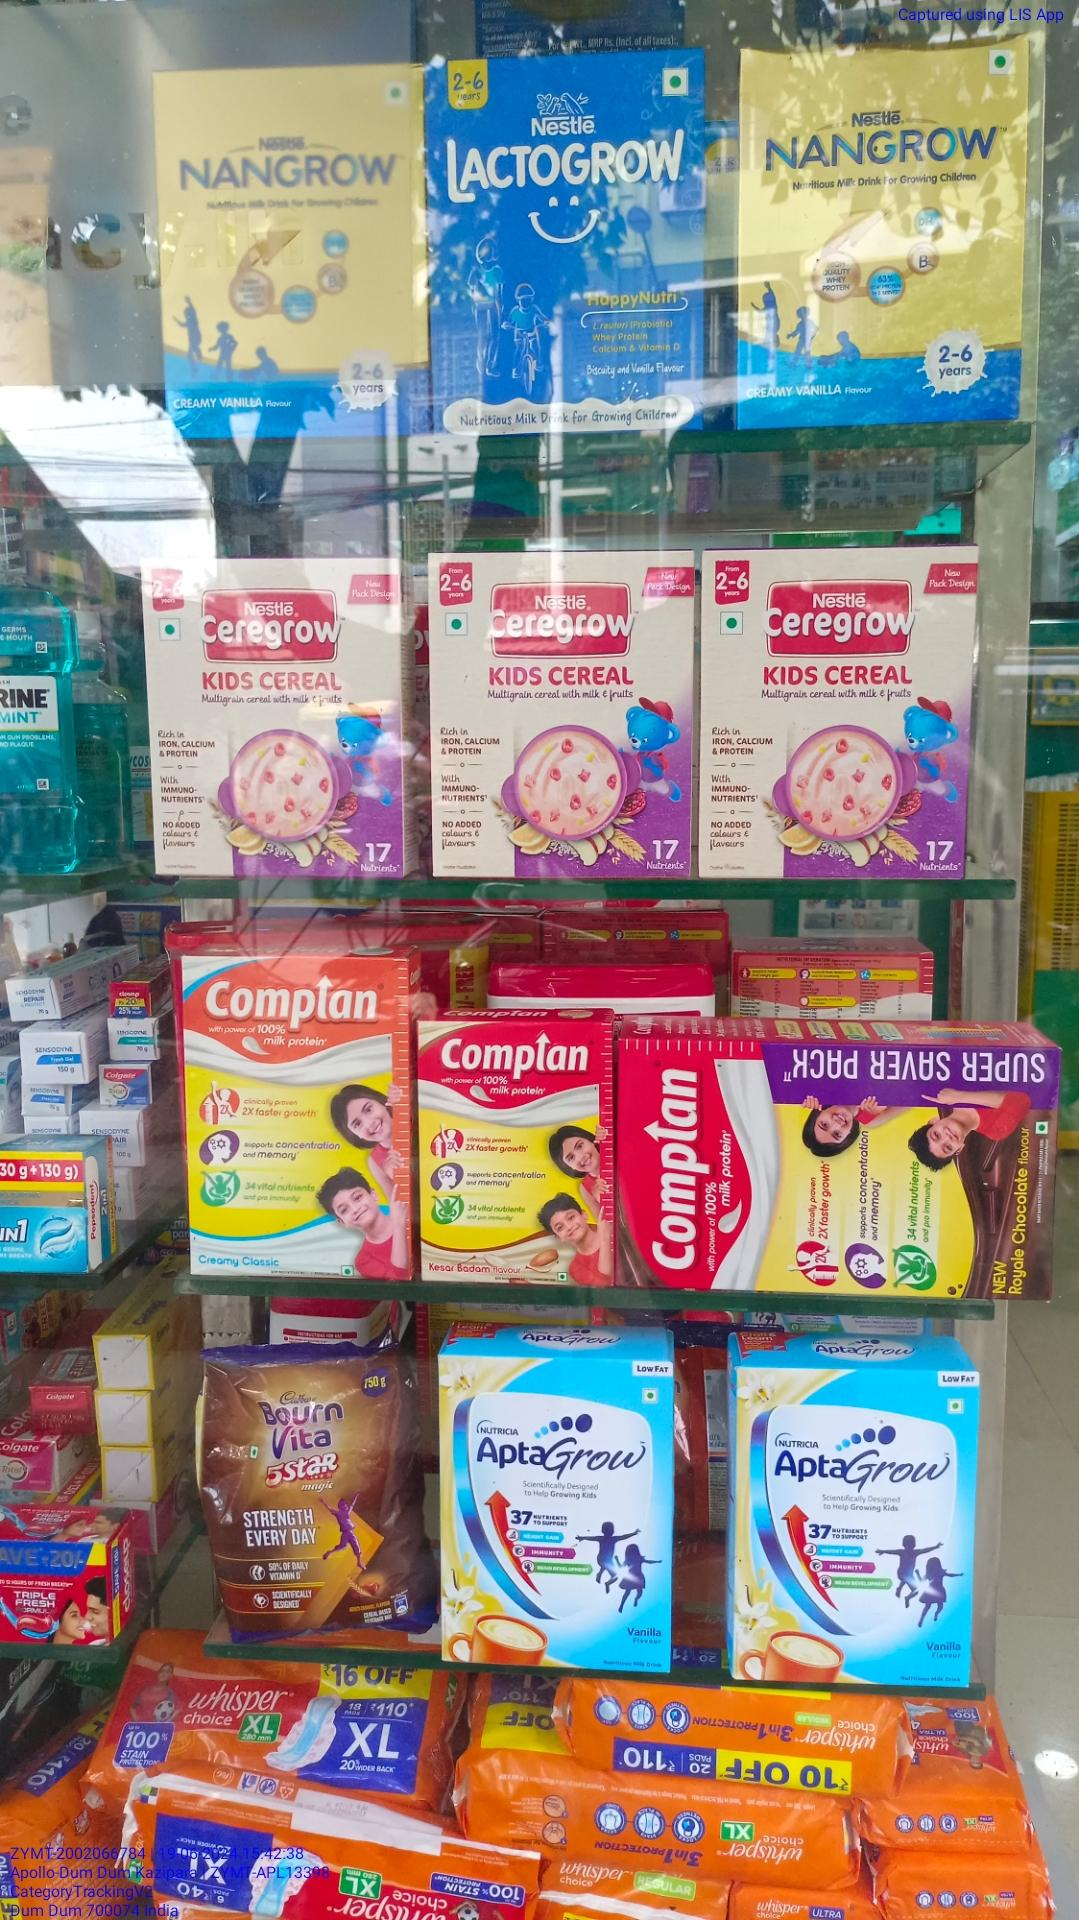BOURN_VITA_FIVE_STAR_MAGIC_750_G_POUCH: (195, 1341, 430, 1646)
COMPLAN_KESAR_BADAM_200_GMS_PACK: (416, 1021, 612, 1284)
